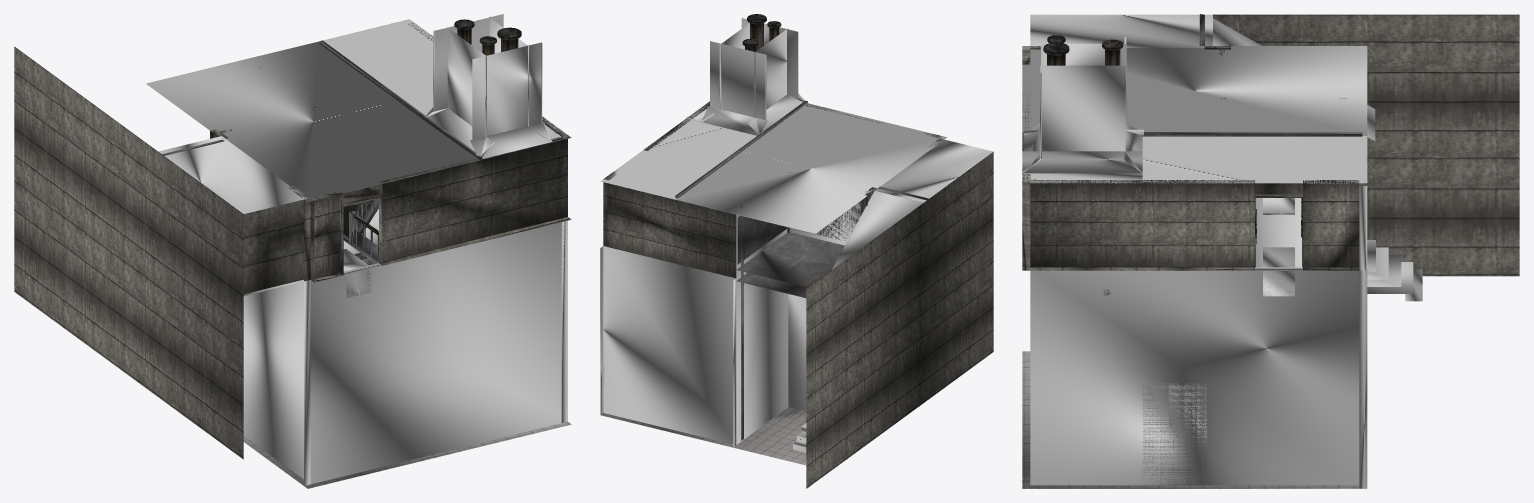
File: room2cpit_opt.obj
The picture shows the model from 3 angles, left to right: view 1: azimuth 30°, elevation 25°; view 2: azimuth 150°, elevation 25°; view 3: azimuth 270°, elevation 25°; orthographic projection. The views are drawn at different scales.
Bounding box in the file's own units: 79.6 × 91.79 × 99.2.
